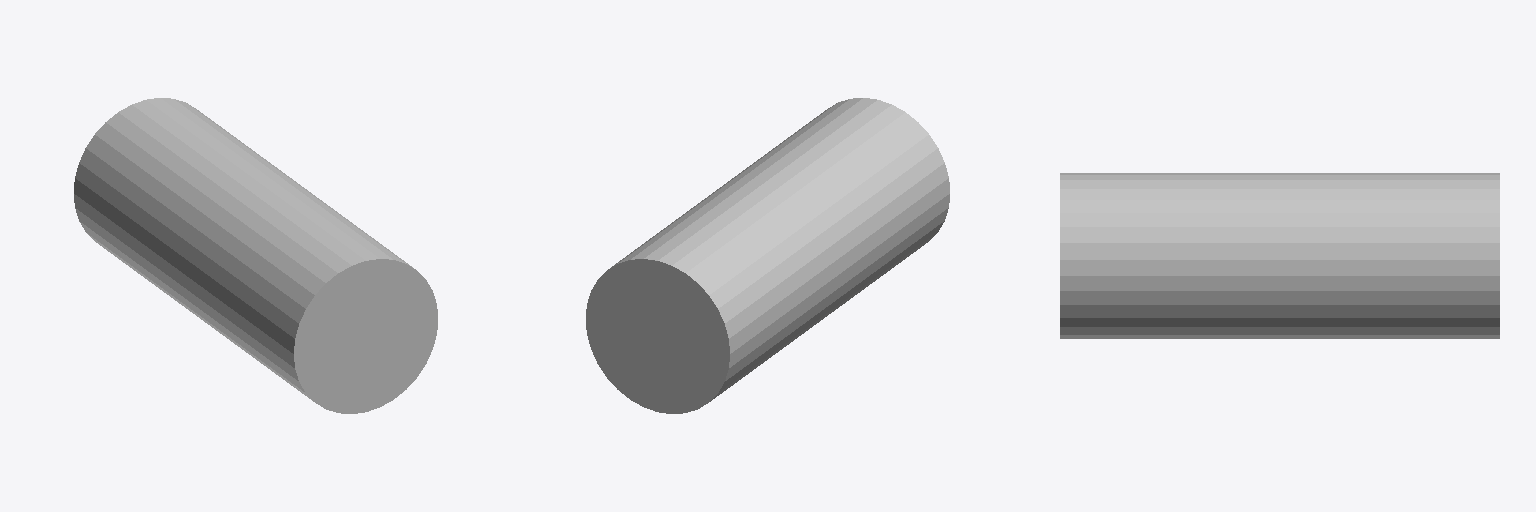
File: bike.obj
3 views of the same model, side by side, from view 1: azimuth 30°, elevation 25°; view 2: azimuth 150°, elevation 25°; view 3: azimuth 270°, elevation 25° (orthographic).
Visible parts, largest first — view 1: Cylinder; view 2: Cylinder; view 3: Cylinder.
Part boxes in pixels (x1,y1,x2,y2): Cylinder: (74, 98, 437, 413); Cylinder: (586, 98, 949, 413); Cylinder: (1060, 173, 1499, 338).
Bounding box in the file's own units: 2 × 2 × 5.27.